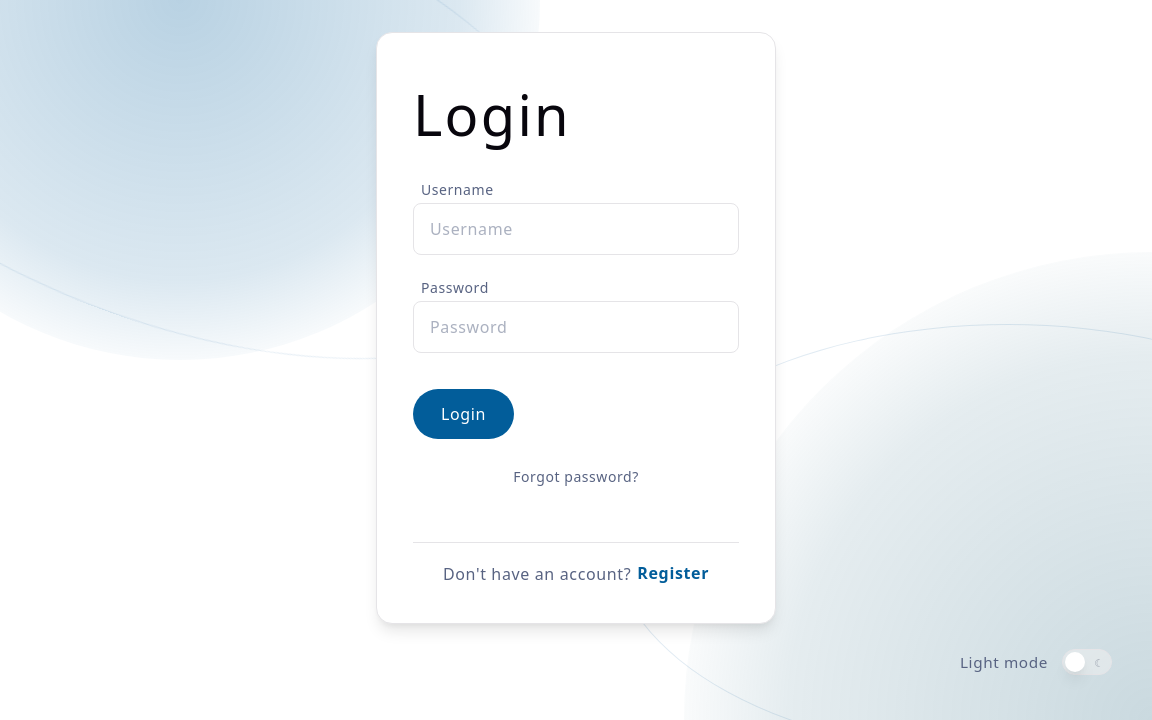
Test: Login › opens the email verification popup when the account is unverified
Type "unverified" into the field with placeholder "Username" at [576, 229], box [413,203,739,255]
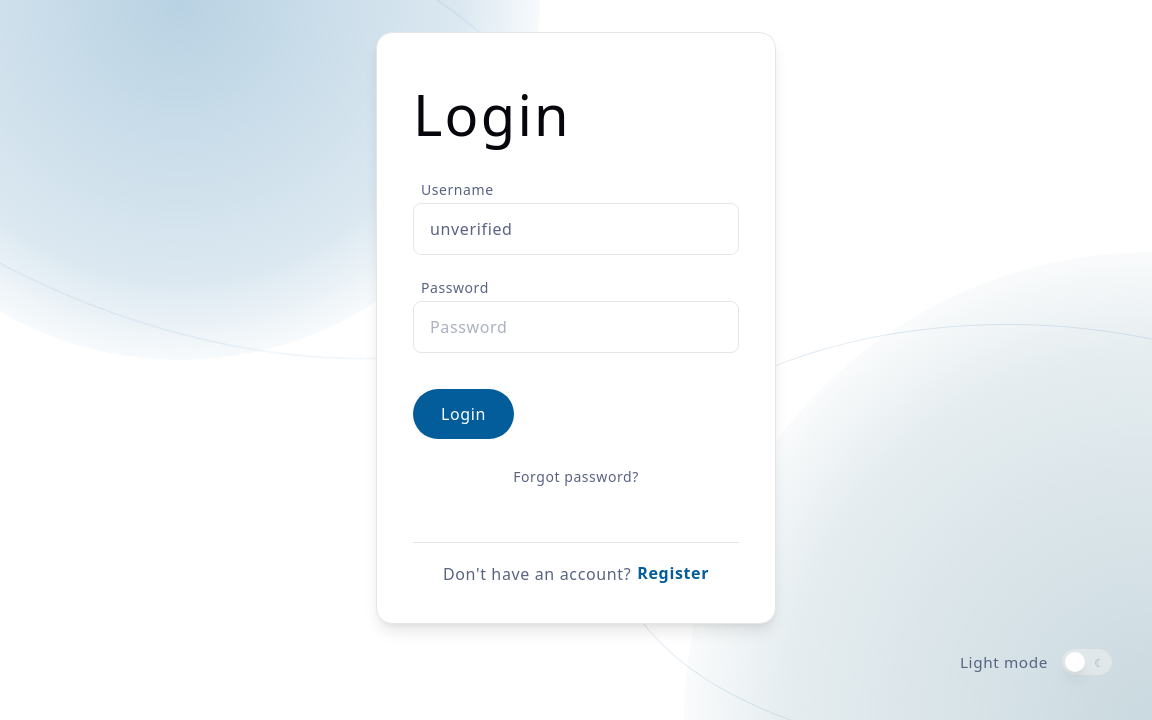
Type "password123" into the password field with placeholder "Password" at [576, 327], box [413,301,739,353]
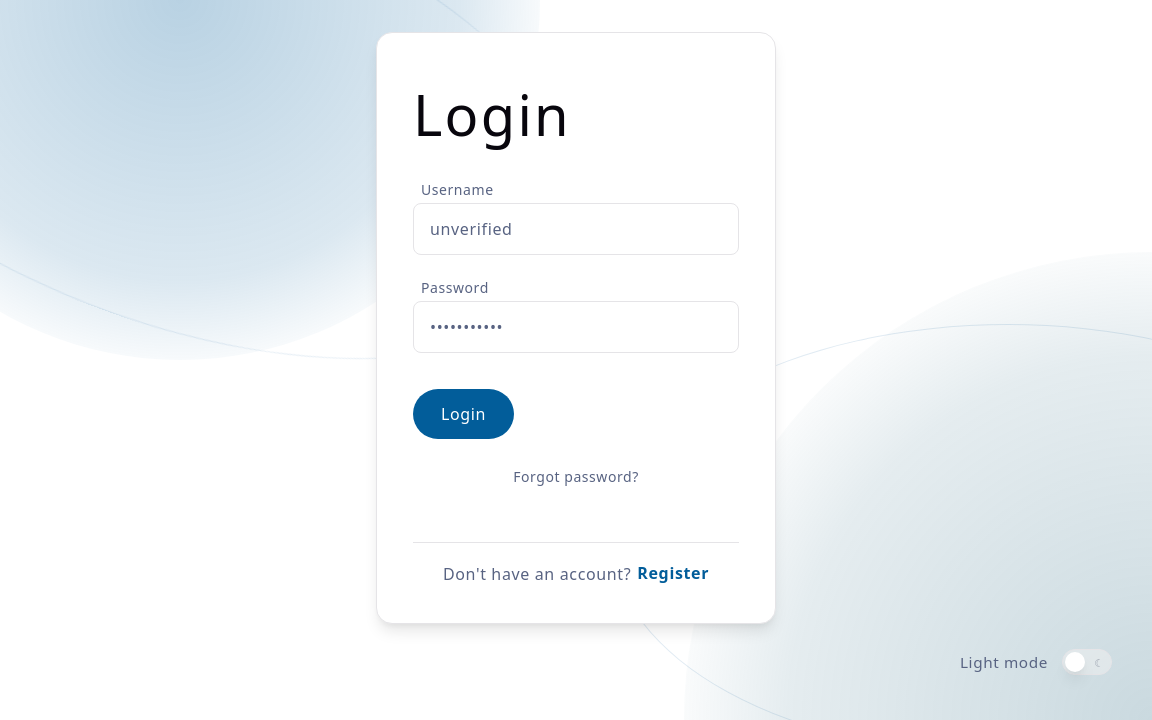
Click the button "Login" at [464, 414], box [413,389,514,439]
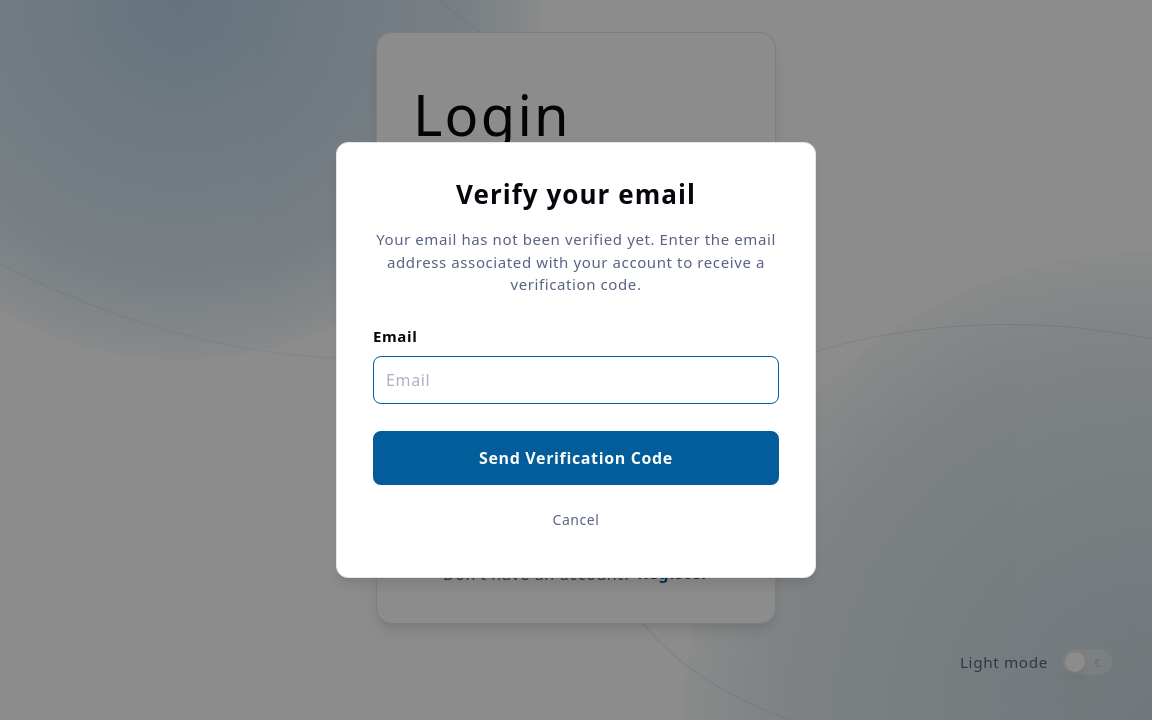
Expected: the heading "Verify your email" is shown, [456,176,696,212]
Expected: the field with placeholder "Email" is shown, [373,356,779,404]
